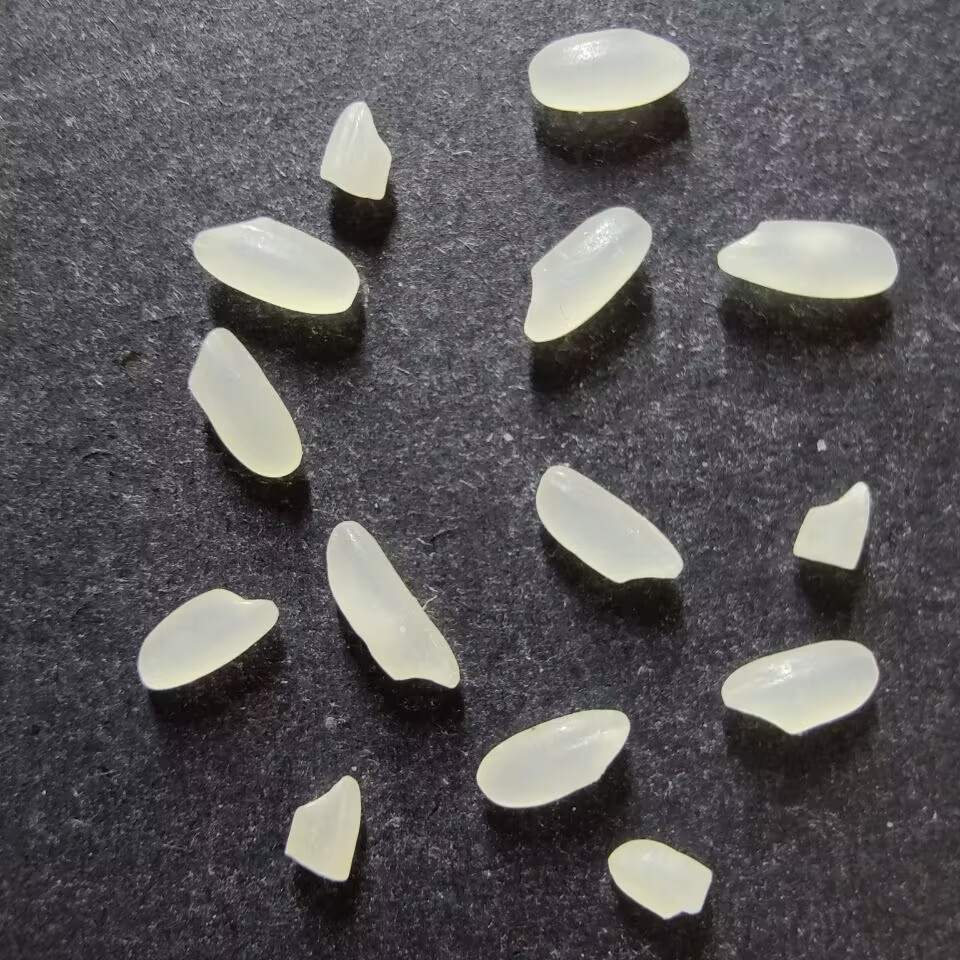broken: (607, 838, 712, 920), (283, 775, 361, 883), (317, 100, 392, 200), (792, 479, 871, 571)
rice: (325, 520, 461, 690), (534, 464, 684, 584), (186, 326, 303, 478), (523, 206, 652, 342), (191, 216, 359, 315), (475, 708, 631, 808), (720, 639, 879, 734), (137, 587, 279, 690), (716, 219, 897, 299), (527, 27, 691, 112)
